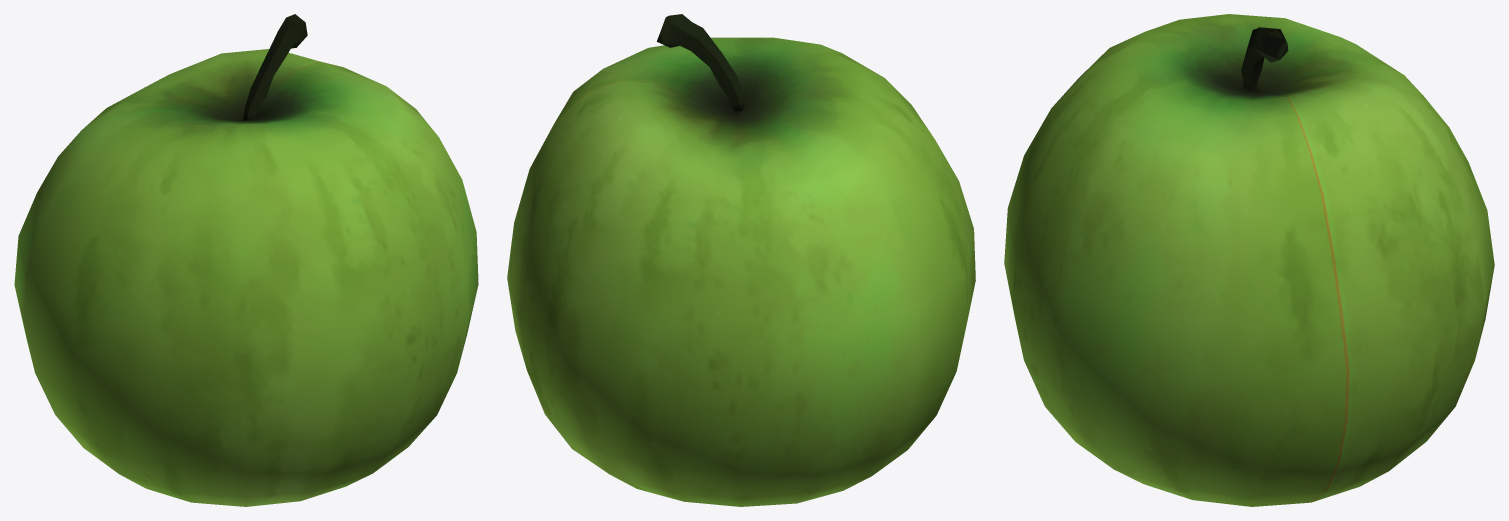
File: AppleGreen.fbx
3 views of the same model, side by side, from view 1: azimuth 30°, elevation 25°; view 2: azimuth 150°, elevation 25°; view 3: azimuth 270°, elevation 25° (orthographic). The views are drawn at different scales.
Visible parts, largest first — view 1: Default_Layer; view 2: Default_Layer; view 3: Default_Layer.
Boxes of the visible parts, x1,y1,x2,y2 form: Default_Layer: (14, 14, 478, 506); Default_Layer: (507, 14, 975, 506); Default_Layer: (1004, 14, 1494, 506).
Bounding box in the file's own units: 100 × 102 × 98.54.
